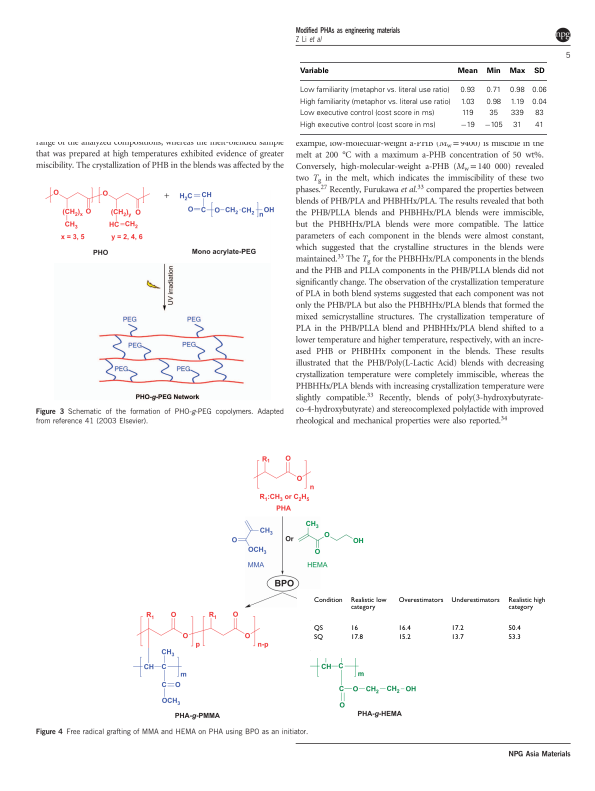borderless: (299, 61, 547, 135), (308, 594, 548, 652)
cell: (298, 98, 451, 107), (298, 86, 450, 95), (298, 121, 436, 130), (298, 109, 435, 118), (507, 596, 546, 612), (349, 596, 387, 612), (450, 596, 500, 605), (397, 596, 444, 605), (313, 596, 343, 605), (298, 67, 329, 75), (483, 121, 503, 130), (456, 67, 478, 75), (508, 86, 525, 95), (459, 86, 475, 95), (485, 86, 501, 95), (531, 86, 547, 95), (459, 98, 475, 107), (485, 98, 501, 107), (531, 98, 547, 107), (459, 121, 475, 130), (508, 67, 525, 75), (509, 98, 524, 107), (509, 109, 524, 118), (485, 67, 501, 75), (460, 109, 474, 118), (397, 624, 411, 633), (450, 624, 464, 633), (507, 624, 521, 633), (349, 633, 363, 642), (397, 633, 411, 642), (450, 633, 464, 642), (507, 633, 521, 642), (533, 67, 545, 75), (488, 109, 498, 118), (534, 109, 544, 118), (512, 121, 522, 130), (534, 121, 544, 130), (313, 624, 323, 633), (313, 633, 323, 642), (349, 624, 358, 633)
